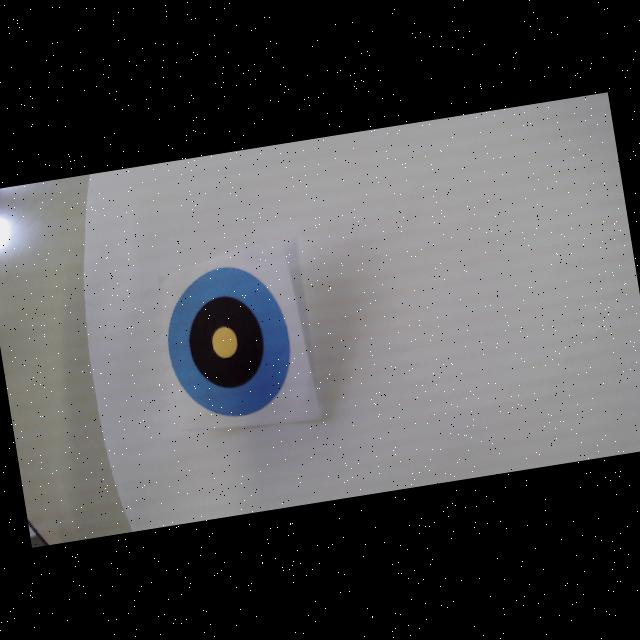COGNITIVE: (158, 258, 300, 426)
